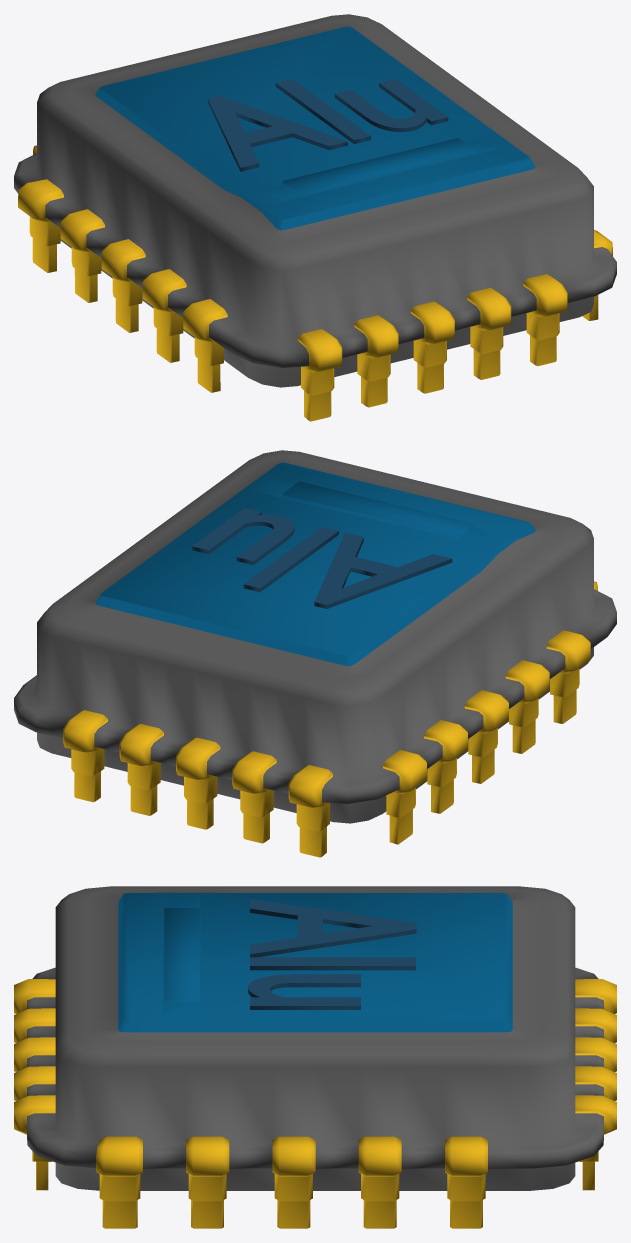
File: ALU.glb
The picture shows the model from 3 angles, top to bottom: view 1: azimuth 30°, elevation 25°; view 2: azimuth 150°, elevation 25°; view 3: azimuth 270°, elevation 25°; orthographic projection. The views are drawn at different scales.
Visible parts, largest first — view 1: Cube, Text; view 2: Cube, Text; view 3: Cube, Text.
Part boxes in pixels (x1,y1,x2,y2): Cube: [14, 14, 616, 421]; Text: [208, 78, 448, 171]; Cube: [14, 450, 616, 857]; Text: [192, 508, 452, 608]; Cube: [14, 886, 616, 1228]; Text: [248, 899, 416, 1009].
Bounding box in the file's own units: 1.4 × 0.5867 × 1.77.
